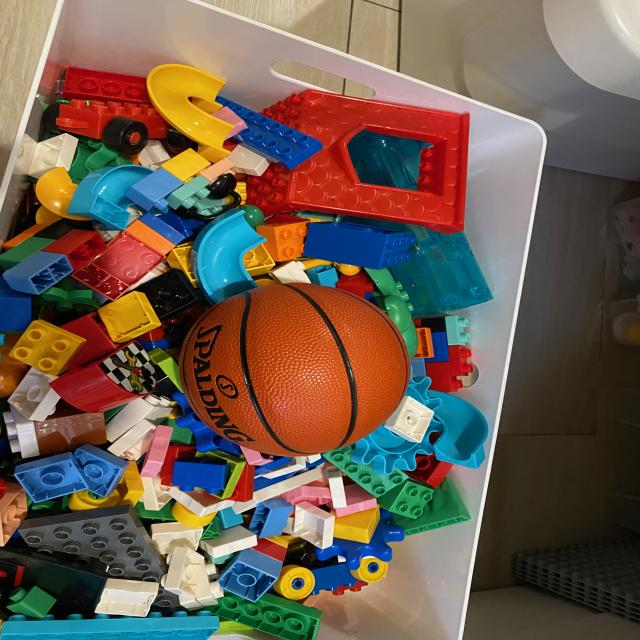Ball: (164, 271, 428, 468)
